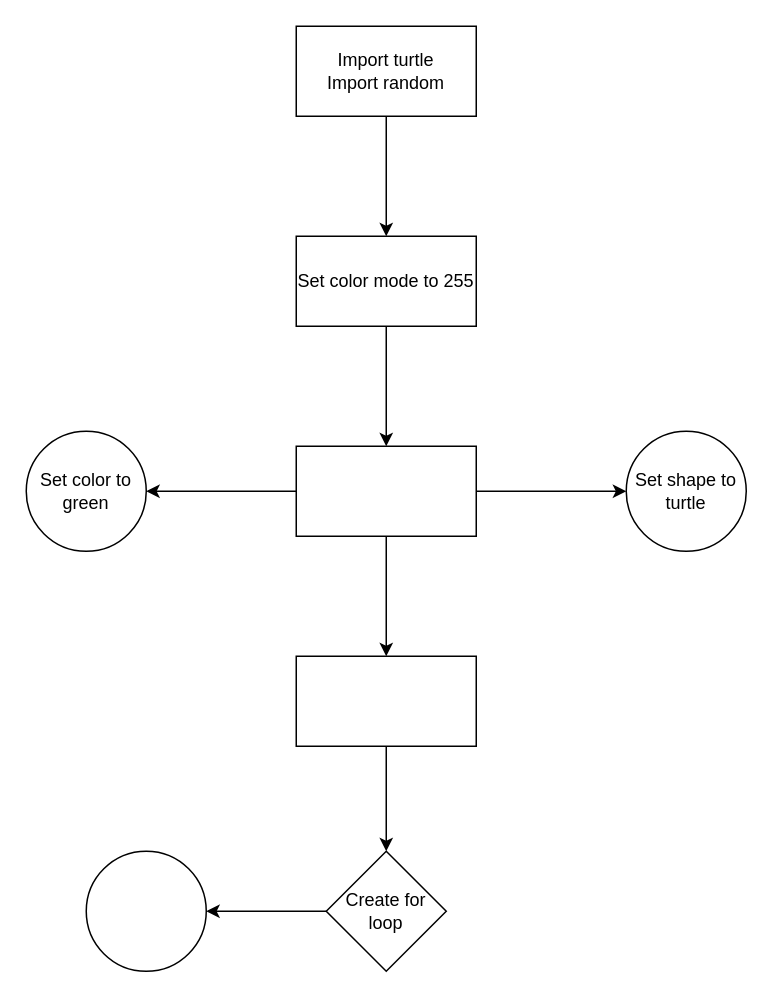
This 773x998 diagram has some shape labels left out. The box of each missing label's shape, as (x1, y1, x2, y2) in pixels:
Create turtle object: (295, 445, 476, 536)
Set range to 360: (85, 850, 206, 971)
Set speed to fastest: (295, 655, 476, 746)
